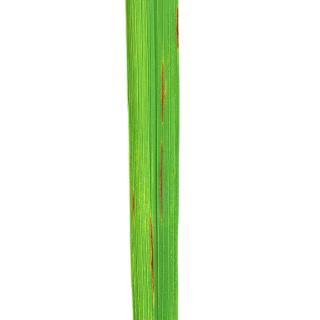Bercak-Cokelat-Sempit: (157, 138, 169, 226), (159, 59, 168, 133), (173, 4, 185, 52), (150, 213, 154, 306), (129, 188, 139, 225)
